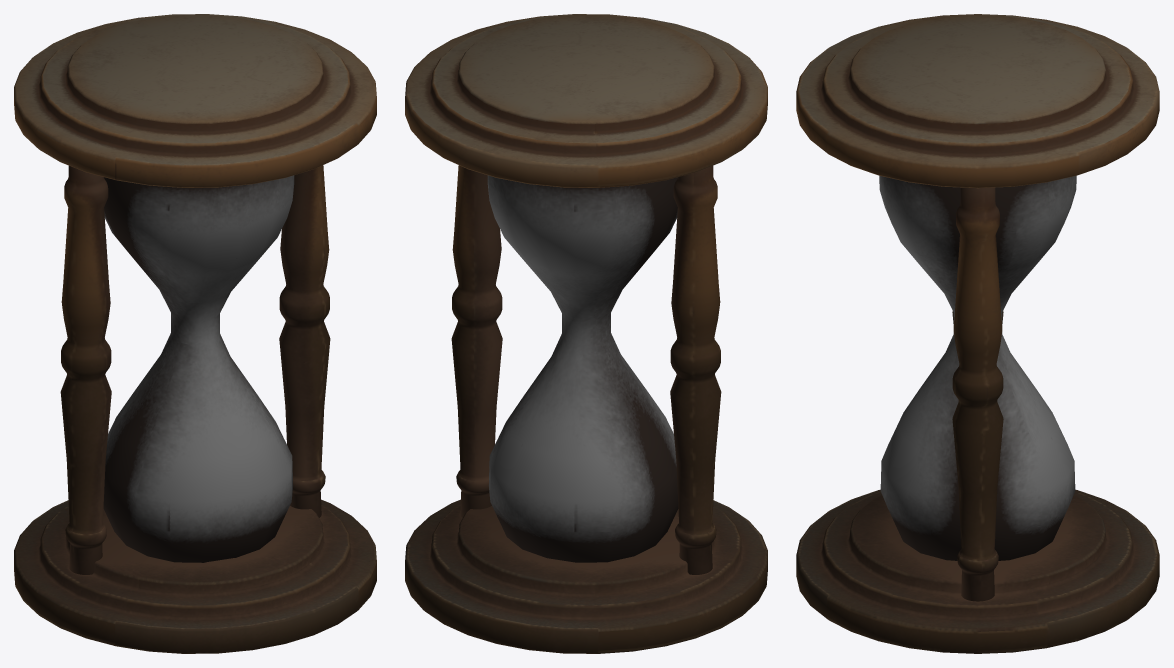
Rendered from sablier.fbx.
3 views of the same model, side by side, from view 1: azimuth 30°, elevation 25°; view 2: azimuth 150°, elevation 25°; view 3: azimuth 270°, elevation 25° (orthographic).
Visible parts, largest first — view 1: Cube, Circle.002, Circle.003, Cylinder.001; view 2: Cube, Circle.002, Circle.003, Cylinder.001; view 3: Circle.002, Circle.003, Cube, Cylinder.001.
Part boxes in pixels (x1,y1,x2,y2): Cube: (103, 175, 294, 562); Circle.002: (14, 14, 376, 187); Circle.003: (14, 499, 376, 653); Cylinder.001: (60, 165, 330, 574); Cube: (487, 175, 678, 562); Circle.002: (405, 14, 767, 187); Circle.003: (405, 499, 767, 653); Cylinder.001: (451, 165, 721, 574); Circle.002: (796, 14, 1159, 188); Circle.003: (796, 489, 1159, 653); Cube: (879, 175, 1076, 560); Cylinder.001: (952, 187, 1003, 601).
Bounding box in the file's own units: 251 × 388 × 251.
Materials: 2 (2 with a texture image).
